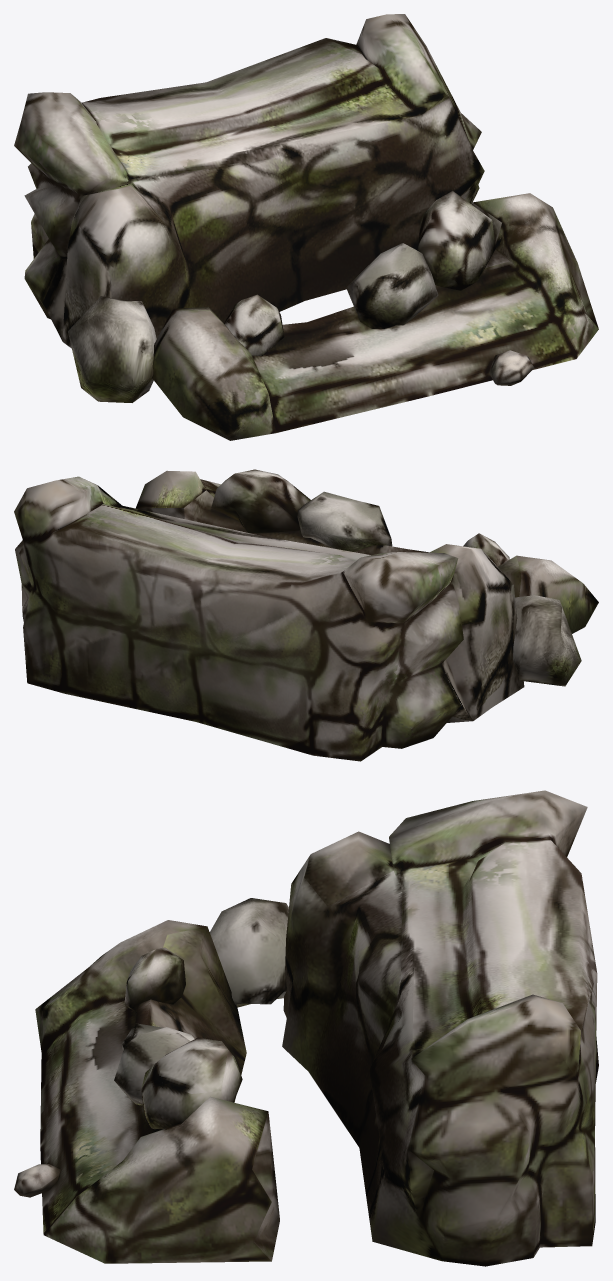
File: PRP_StairBoulderB.FBX
The picture shows the model from 3 angles, top to bottom: view 1: azimuth 30°, elevation 25°; view 2: azimuth 150°, elevation 25°; view 3: azimuth 270°, elevation 25°; orthographic projection. The views are drawn at different scales.
Parts seen in each view (by area): view 1: PRP_StairBoulderB; view 2: PRP_StairBoulderB; view 3: PRP_StairBoulderB.
Part boxes in pixels (bbox=[...]): PRP_StairBoulderB: bbox=[14, 14, 598, 440]; PRP_StairBoulderB: bbox=[14, 469, 598, 761]; PRP_StairBoulderB: bbox=[14, 790, 598, 1266].
Size of the model in its own units: 717 by 292 by 614.
